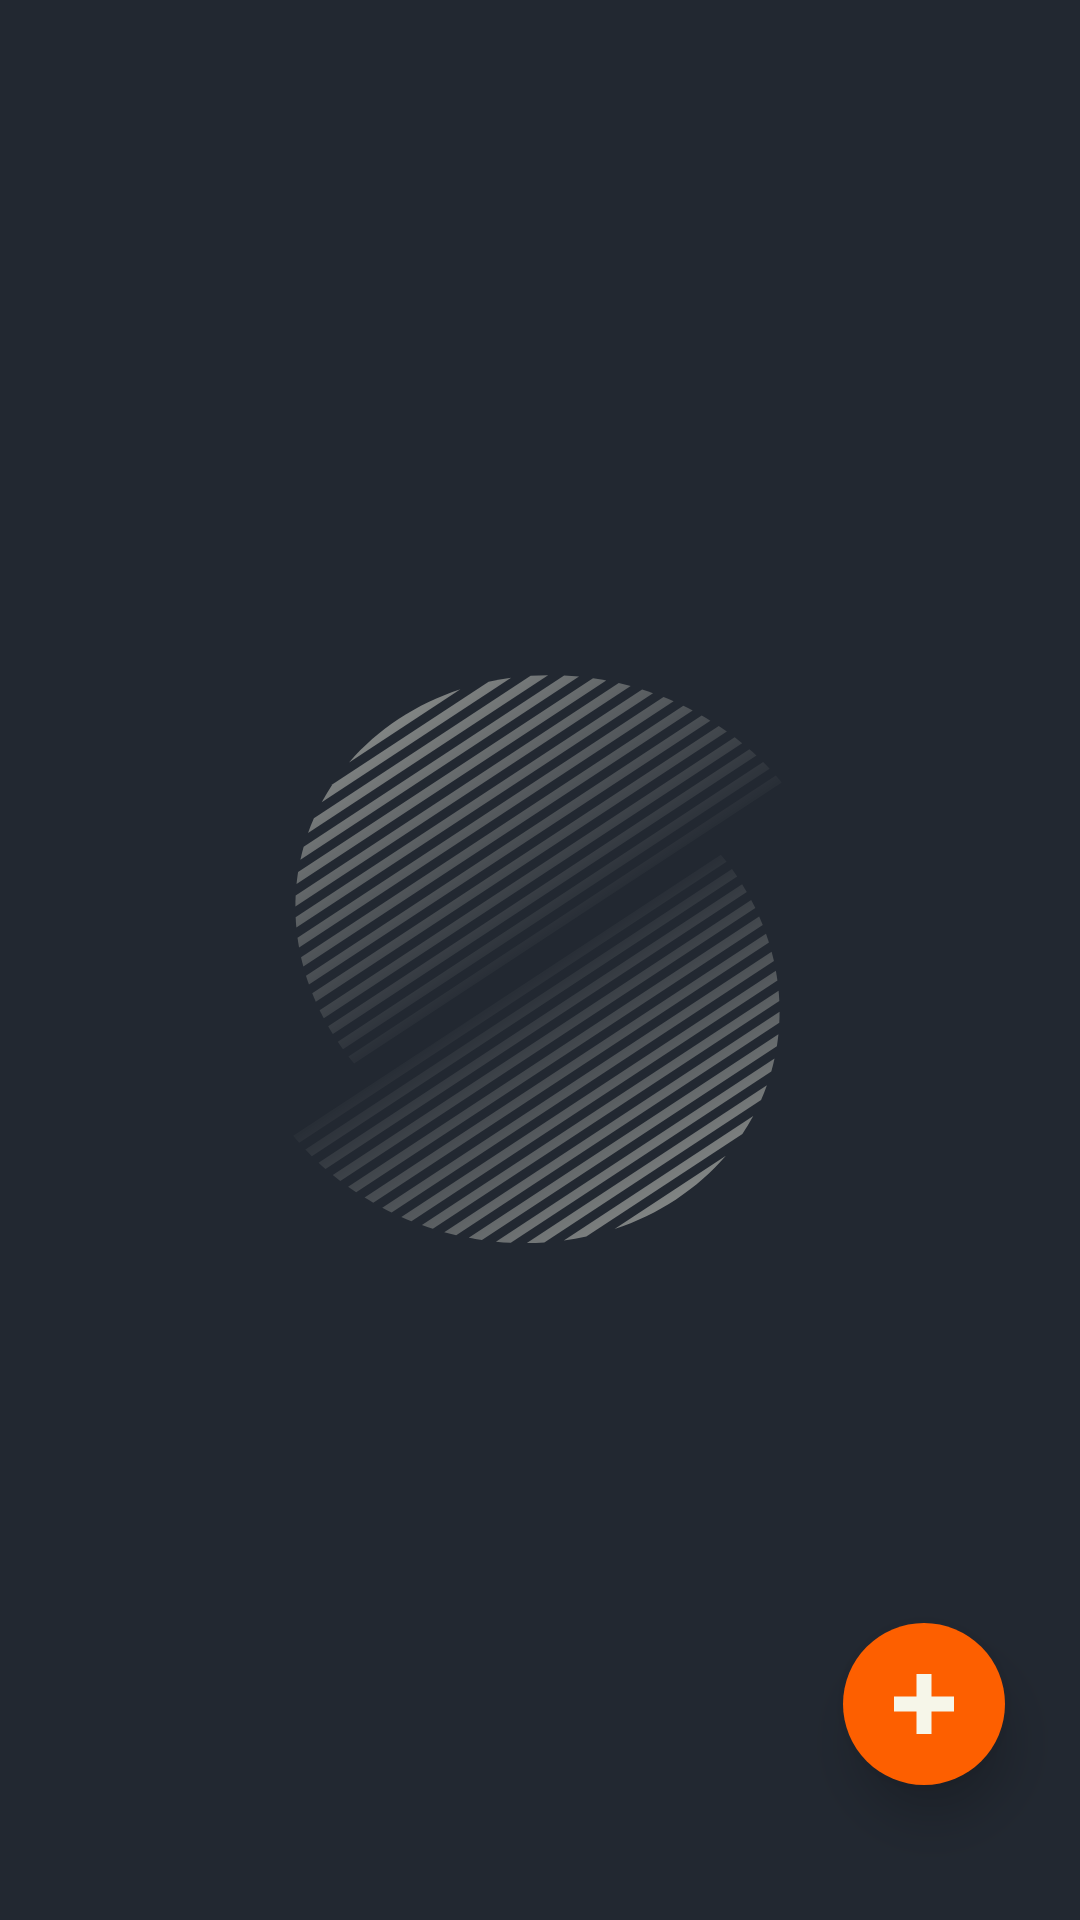

Point at icon controls on the screen. Image size 1080px x 1920px, points as (x=x, y=y).
add: (x=924, y=1704)
